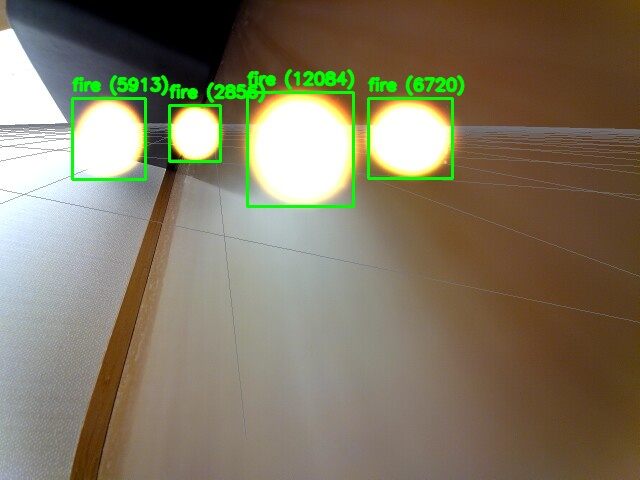fire: (247, 92, 353, 206), (368, 98, 452, 178), (72, 98, 145, 179), (169, 105, 220, 161)
